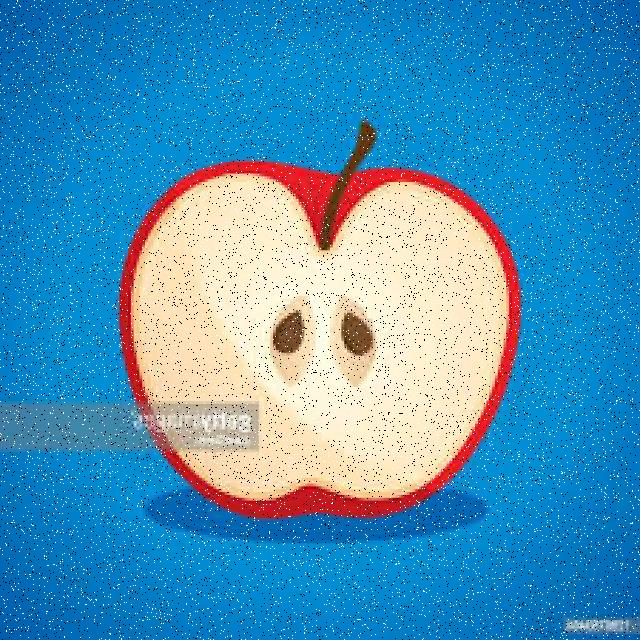Apple: (120, 163, 526, 520)
